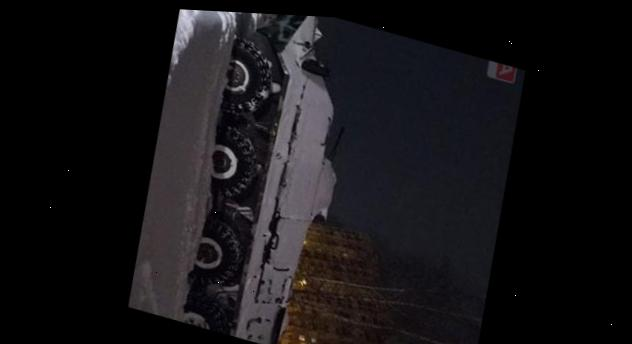tank: (160, 8, 383, 344)
